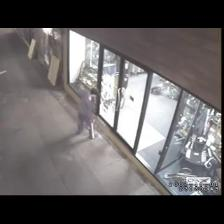person: (75, 89, 98, 138)
